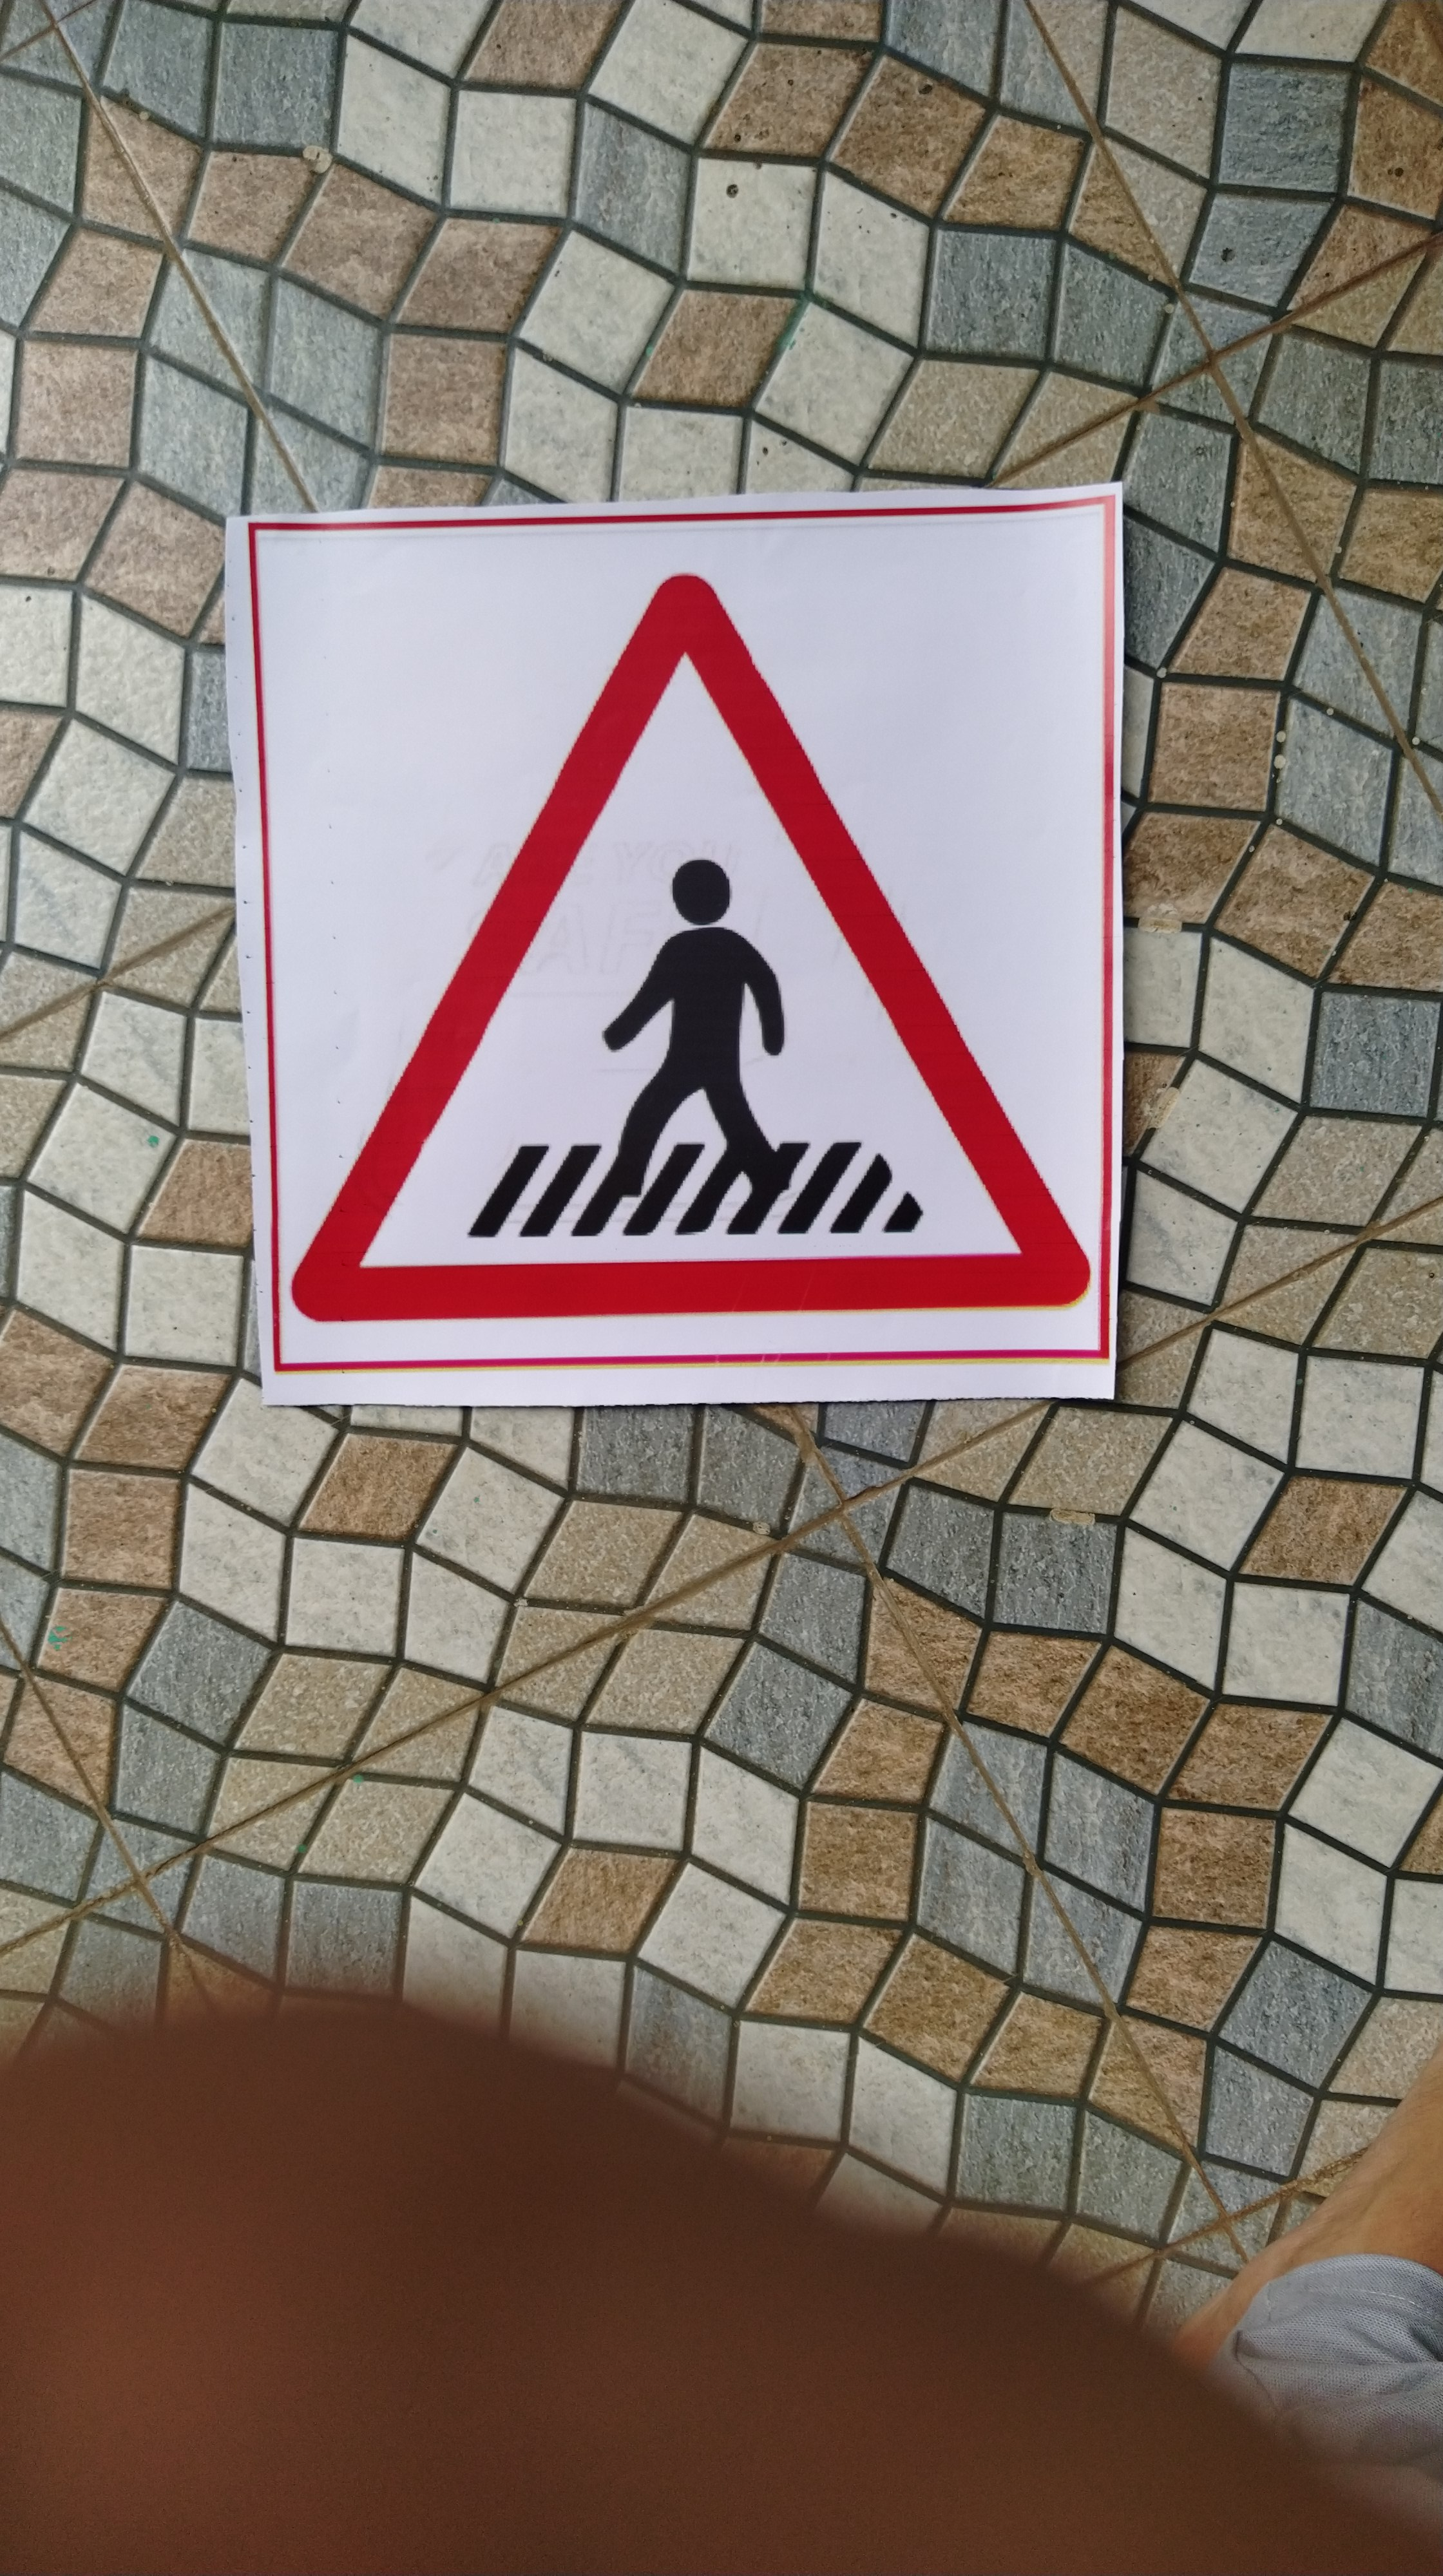pedestrain crossing: (283, 552, 1112, 1405)
